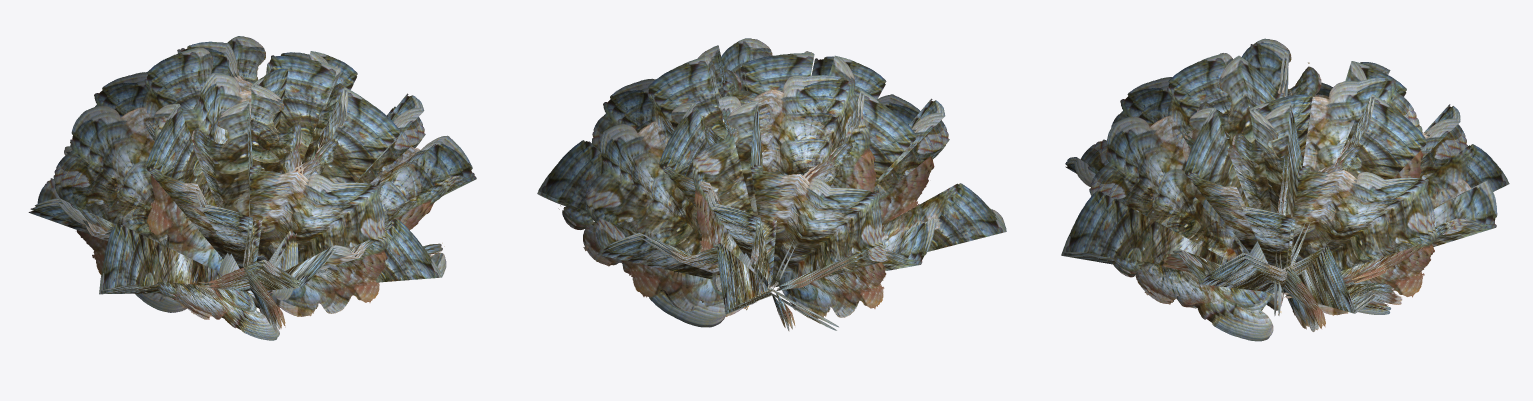
File: RippleSponge_LOD0.fbx
The picture shows the model from 3 angles, left to right: view 1: azimuth 30°, elevation 25°; view 2: azimuth 150°, elevation 25°; view 3: azimuth 270°, elevation 25°; orthographic projection.
Parts seen in each view (by area): view 1: RippleSponge_high; view 2: RippleSponge_high; view 3: RippleSponge_high.
Part boxes in pixels (x1,y1,x2,y2): RippleSponge_high: [28, 36, 476, 340]; RippleSponge_high: [537, 38, 1006, 331]; RippleSponge_high: [1061, 38, 1509, 341].
Bounding box in the file's own units: 45.59 × 31.18 × 45.12.
